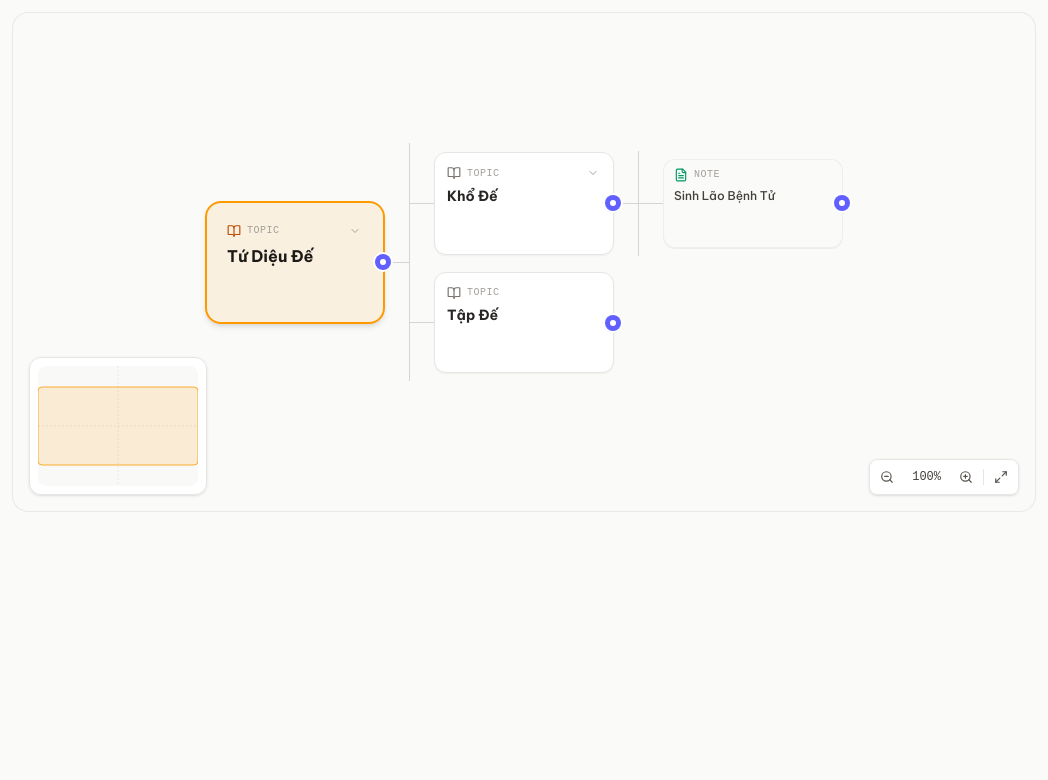
Test: Phase M5b — Canvas Direct Drag-to-Connect Unit Tests › 3. Preview Line Tracking & Cancellation › Scenario 3B: pressing Escape cancels drag-to-connect session and unmounts preview line
Press the mouse on the button with test id "connector-handle-node-kho-de" at (613, 203), box [605,195,621,211]
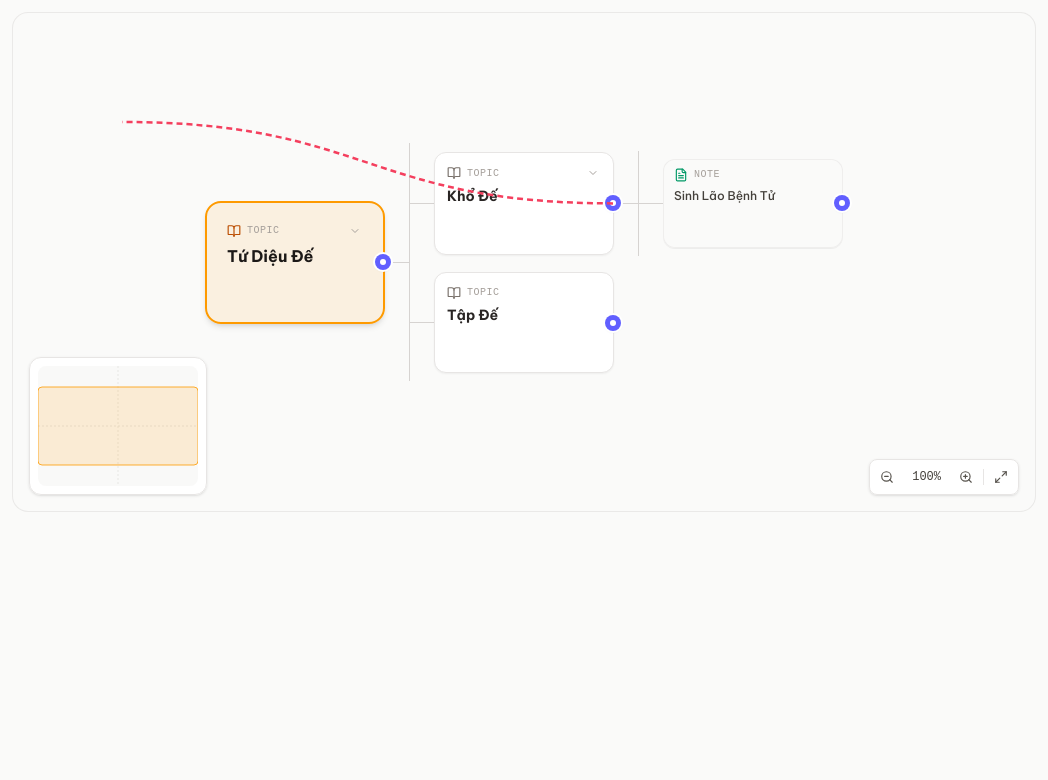
Check: the icon with test id "mindmap-connect-preview-layer" is shown
Note: Press Escape
Press Escape
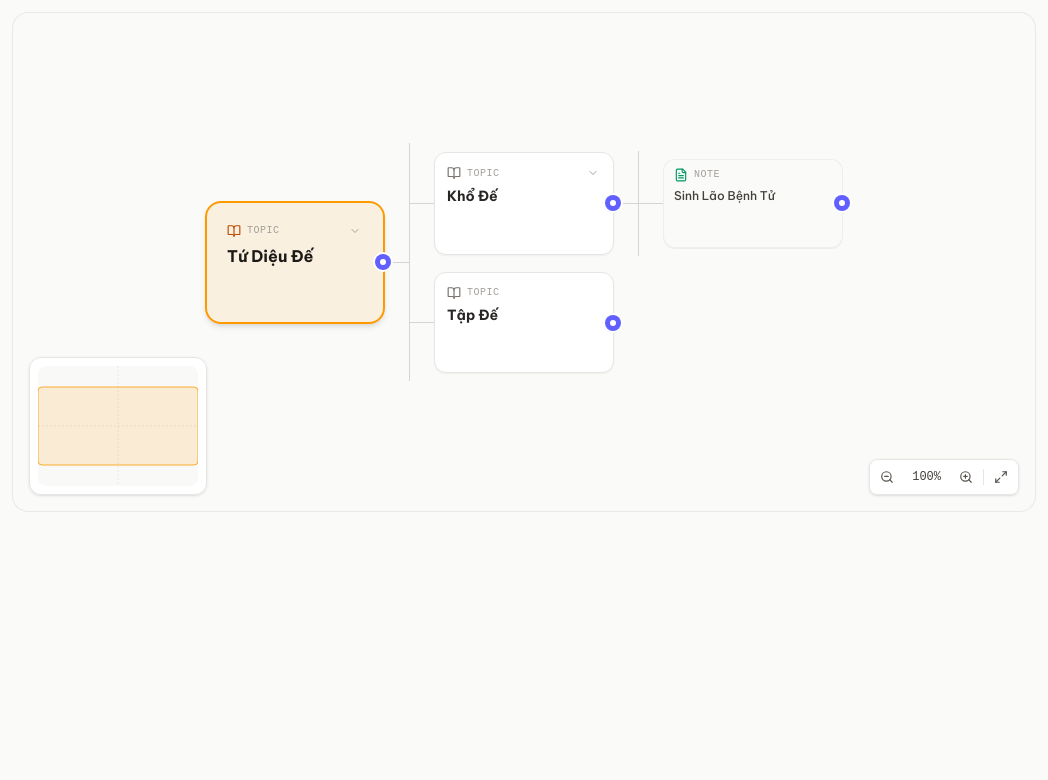
Check: the icon with test id "mindmap-connect-preview-layer" is gone
